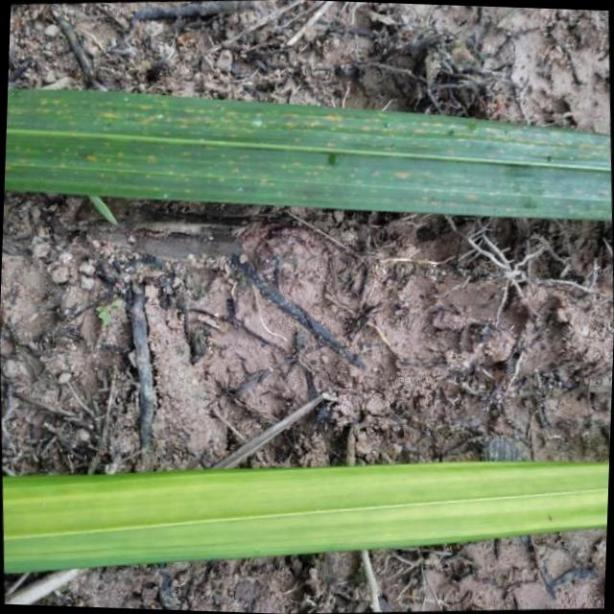nitrogen: (5, 78, 614, 222), (0, 456, 614, 576)
